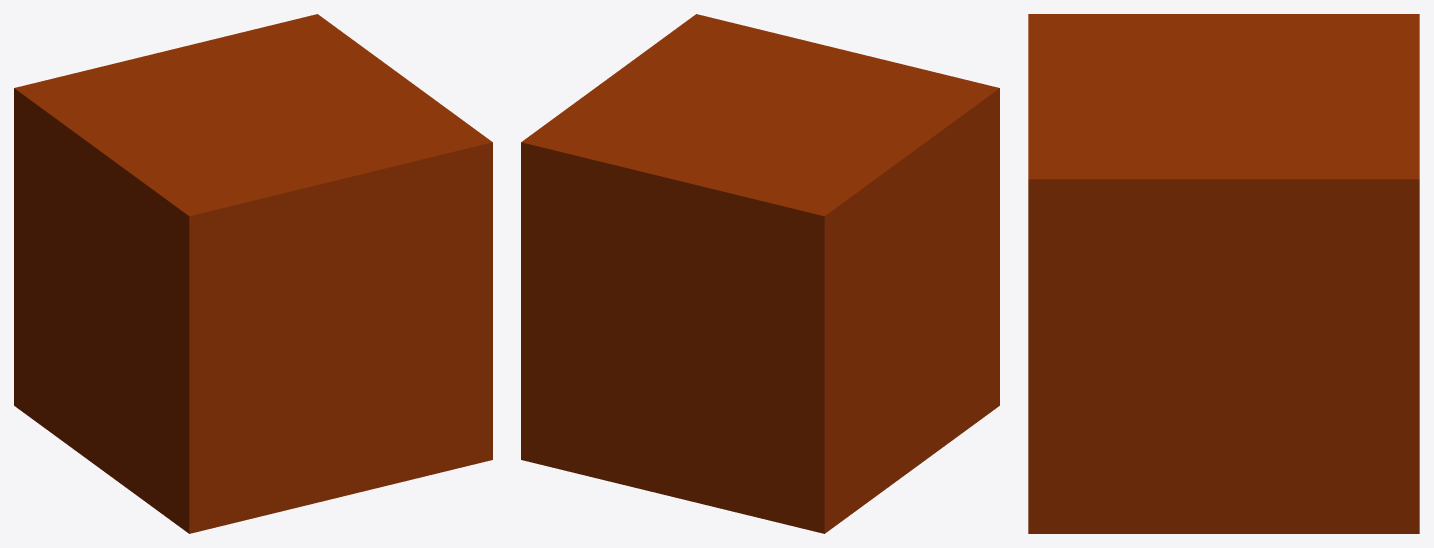
Rendered from block.fbx.
3 views of the same model, side by side, from view 1: azimuth 30°, elevation 25°; view 2: azimuth 150°, elevation 25°; view 3: azimuth 270°, elevation 25° (orthographic). The views are drawn at different scales.
Visible parts, largest first — view 1: pCube1; view 2: pCube1; view 3: pCube1.
Part boxes in pixels (x1,y1,x2,y2): pCube1: [14, 14, 492, 533]; pCube1: [521, 14, 999, 533]; pCube1: [1028, 14, 1419, 533].
Size of the model in its own units: 100 by 100 by 100.
